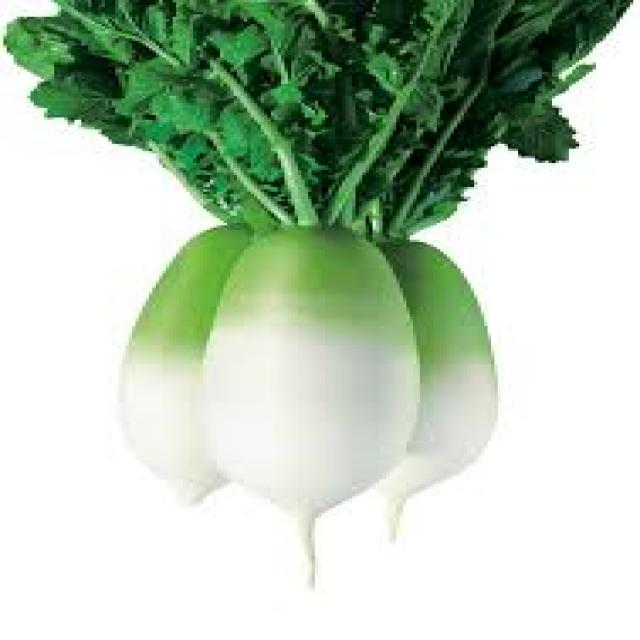raddish: (208, 229, 422, 518)
